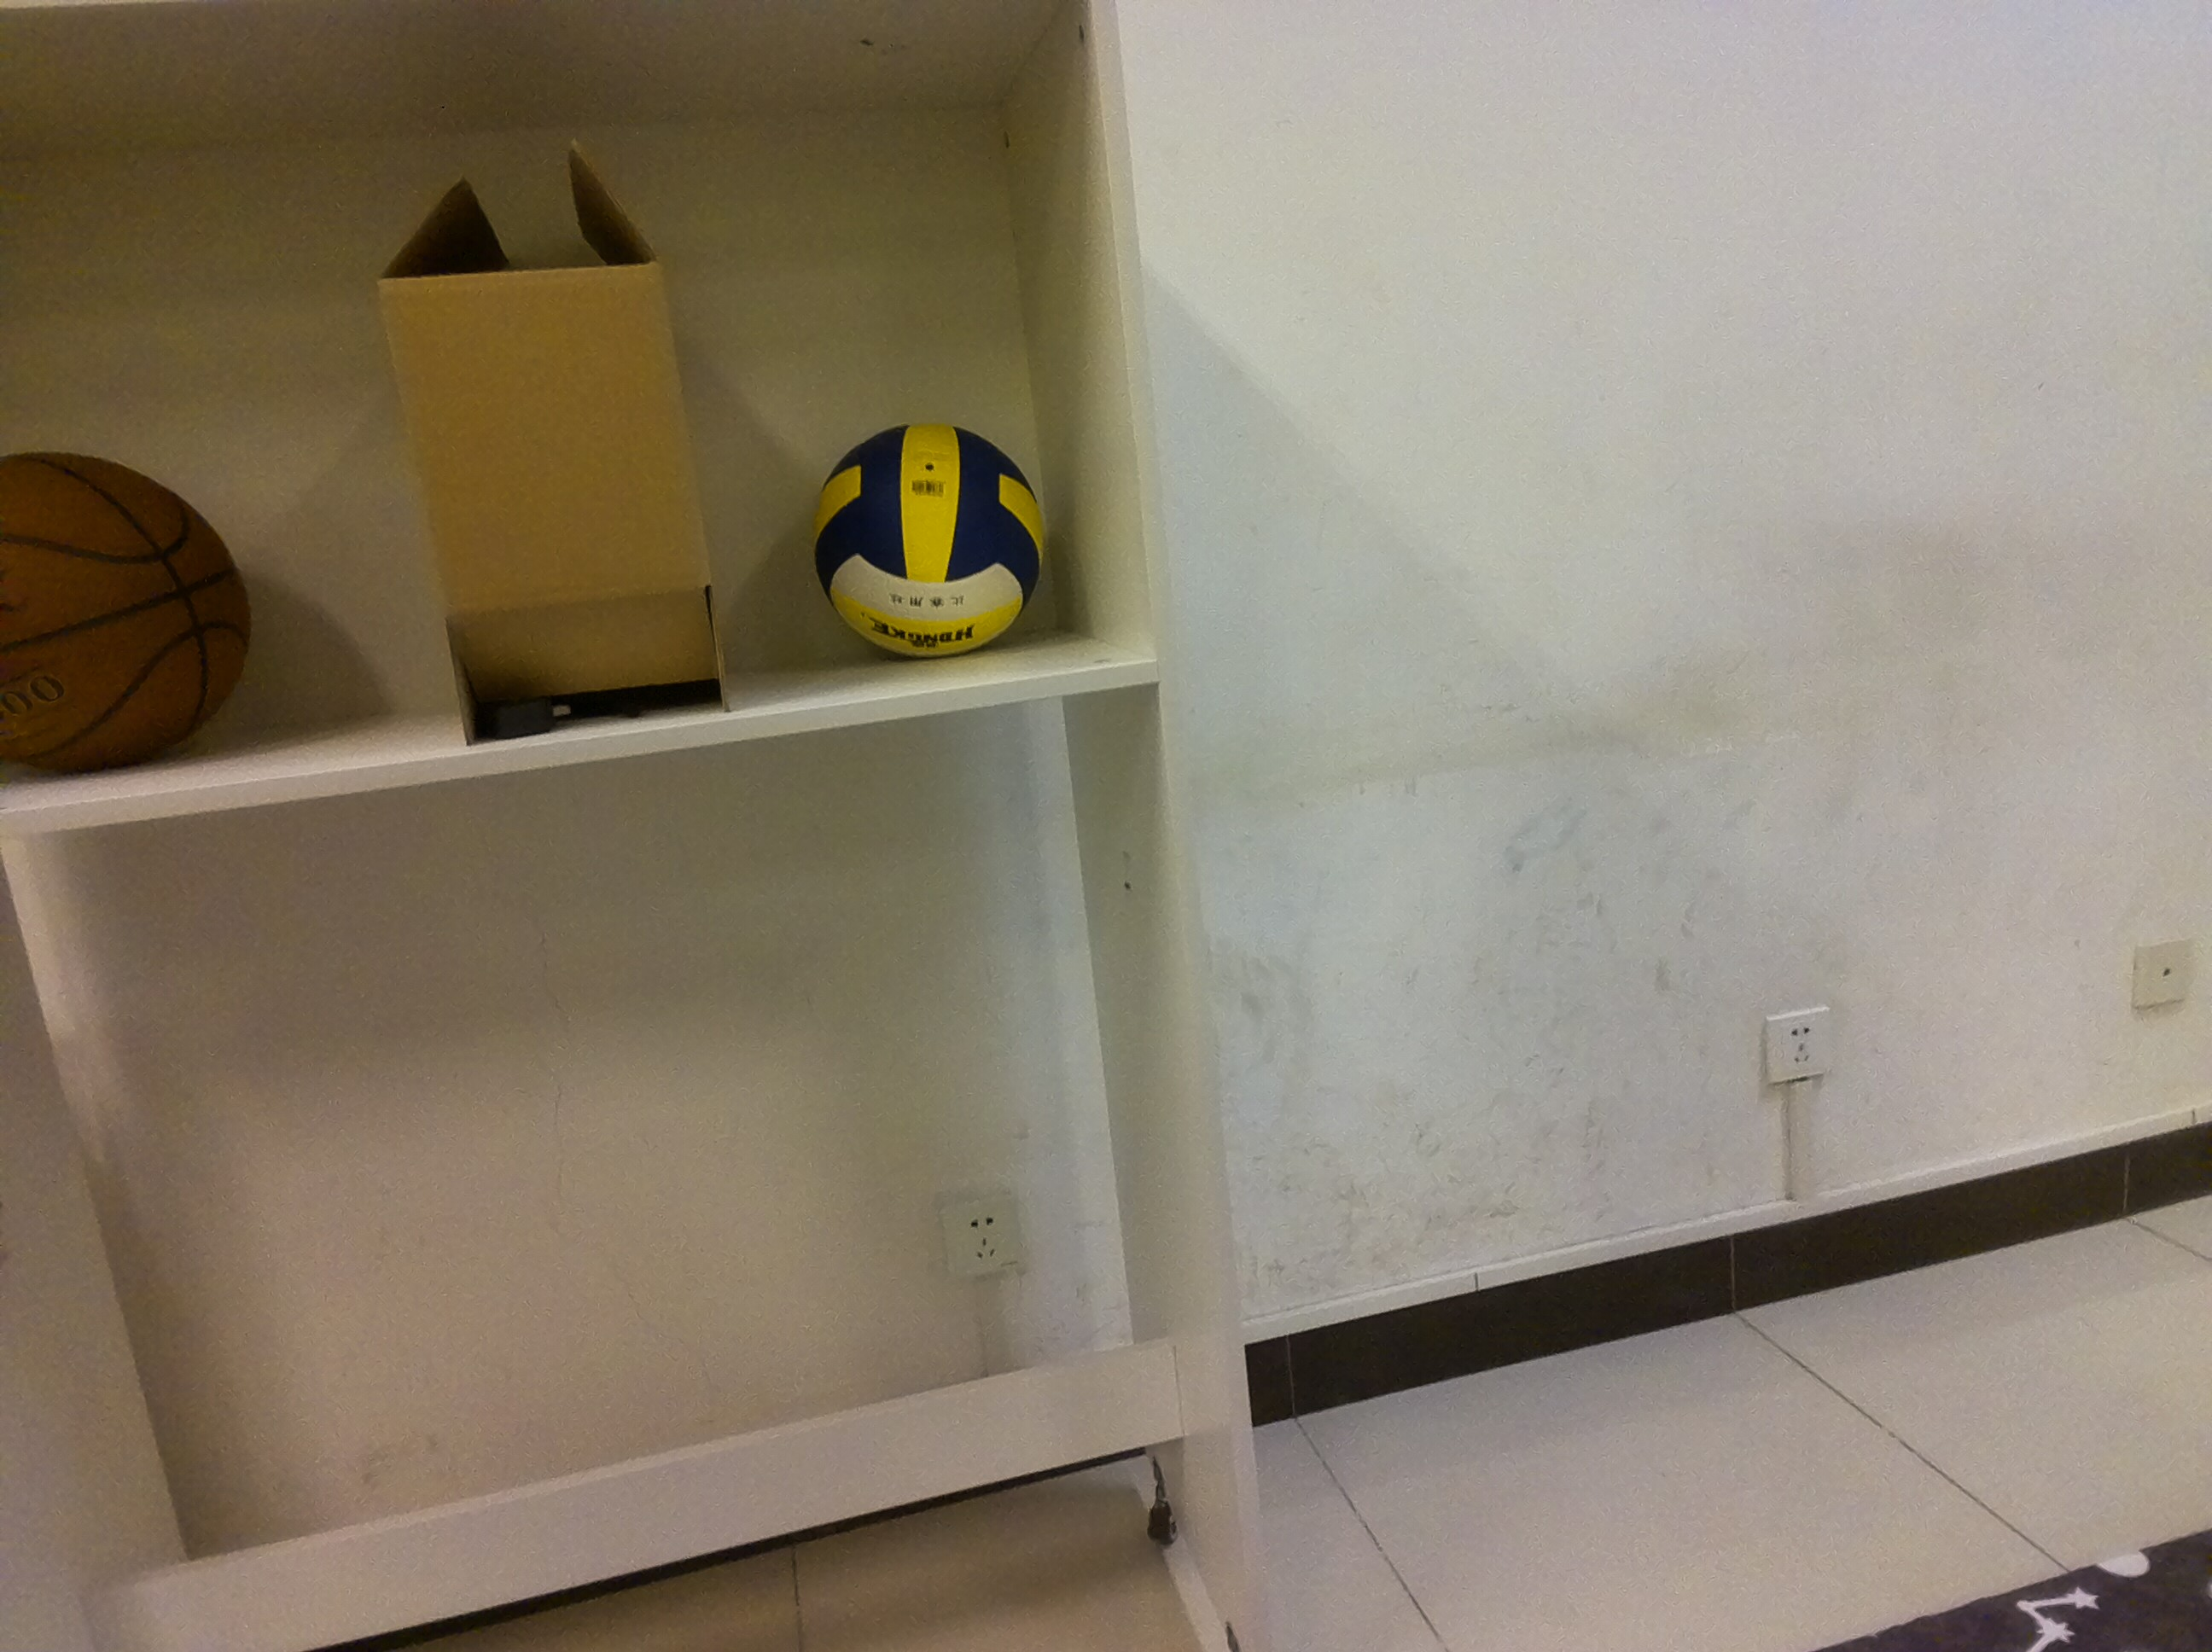volleyball: (798, 403, 1067, 668)
